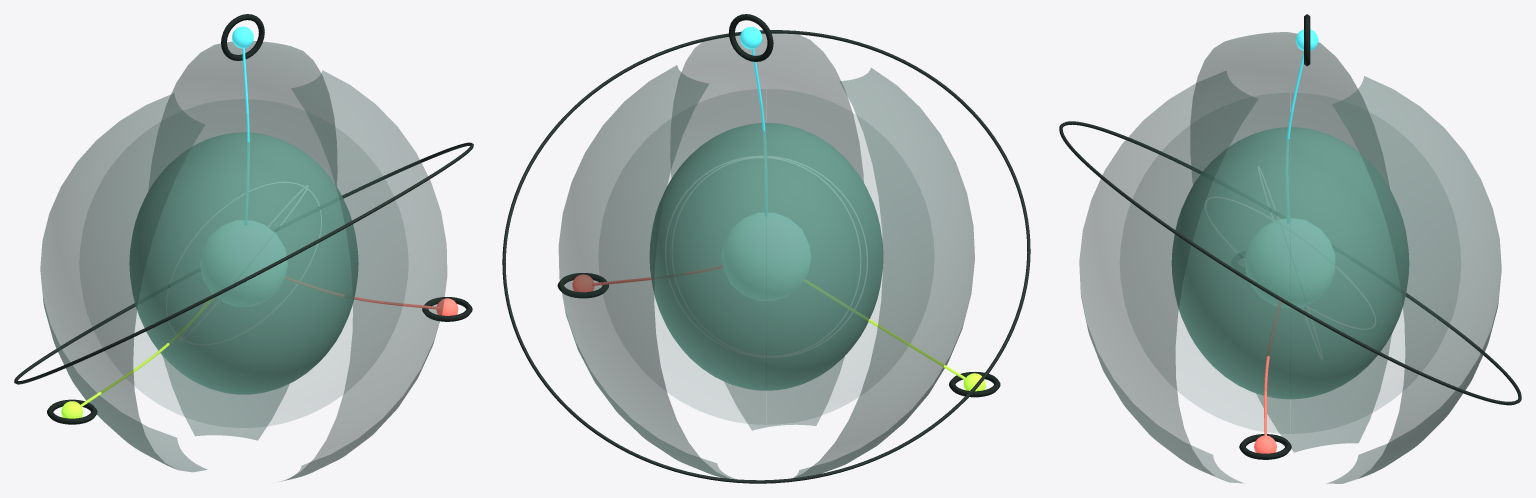
Rendered from agent-core.glb.
3 views of the same model, side by side, from view 1: azimuth 30°, elevation 25°; view 2: azimuth 150°, elevation 25°; view 3: azimuth 270°, elevation 25° (orthographic). The views are drawn at different scales.
Visible parts, largest first — view 1: INNER_CRYSTAL, PETAL_01, PETAL_00, PETAL_02, LIVING_MEMBRANE, MEMORY_SEED, GIMBAL_0, PORT_EKG, PORT_PMU, PORT_SECURITY, FILAMENT_EKG, FILAMENT_PMU; view 2: INNER_CRYSTAL, PETAL_02, PETAL_00, PETAL_01, LIVING_MEMBRANE, MEMORY_SEED, GIMBAL_0, PORT_EKG, PORT_SECURITY, PORT_PMU, FILAMENT_PMU; view 3: INNER_CRYSTAL, PETAL_01, PETAL_02, PETAL_00, LIVING_MEMBRANE, MEMORY_SEED, GIMBAL_0, PORT_SECURITY, PORT_EKG, FILAMENT_EKG.
Boxes of the visible parts, x1=… form: INNER_CRYSTAL: x1=129, y1=132, x2=358, y2=394; PETAL_01: x1=281, y1=70, x2=446, y2=481; PETAL_00: x1=40, y1=93, x2=207, y2=472; PETAL_02: x1=149, y1=41, x2=337, y2=440; LIVING_MEMBRANE: x1=133, y1=99, x2=352, y2=427; MEMORY_SEED: x1=200, y1=220, x2=287, y2=306; GIMBAL_0: x1=14, y1=142, x2=473, y2=384; PORT_EKG: x1=221, y1=14, x2=264, y2=60; PORT_PMU: x1=47, y1=399, x2=97, y2=424; PORT_SECURITY: x1=422, y1=297, x2=472, y2=321; FILAMENT_EKG: x1=242, y1=48, x2=249, y2=224; FILAMENT_PMU: x1=80, y1=298, x2=214, y2=406; INNER_CRYSTAL: x1=649, y1=123, x2=883, y2=390; PETAL_02: x1=558, y1=65, x2=735, y2=479; PETAL_00: x1=771, y1=68, x2=974, y2=483; PETAL_01: x1=670, y1=31, x2=863, y2=430; LIVING_MEMBRANE: x1=654, y1=89, x2=882, y2=424; MEMORY_SEED: x1=721, y1=213, x2=811, y2=300; GIMBAL_0: x1=502, y1=30, x2=1030, y2=483; PORT_EKG: x1=729, y1=14, x2=773, y2=61; PORT_SECURITY: x1=557, y1=273, x2=608, y2=298; PORT_PMU: x1=949, y1=372, x2=1000, y2=397; FILAMENT_PMU: x1=804, y1=279, x2=965, y2=379; INNER_CRYSTAL: x1=1171, y1=127, x2=1409, y2=399; PETAL_01: x1=1079, y1=71, x2=1258, y2=482; PETAL_02: x1=1327, y1=76, x2=1501, y2=483; PETAL_00: x1=1190, y1=32, x2=1391, y2=452; LIVING_MEMBRANE: x1=1176, y1=93, x2=1404, y2=433; MEMORY_SEED: x1=1246, y1=218, x2=1334, y2=308; GIMBAL_0: x1=1059, y1=121, x2=1521, y2=405; PORT_SECURITY: x1=1239, y1=434, x2=1291, y2=459; PORT_EKG: x1=1295, y1=14, x2=1318, y2=66; FILAMENT_EKG: x1=1286, y1=51, x2=1303, y2=223.
Bounding box in the file's own units: 2.5 × 2.42 × 2.22.
